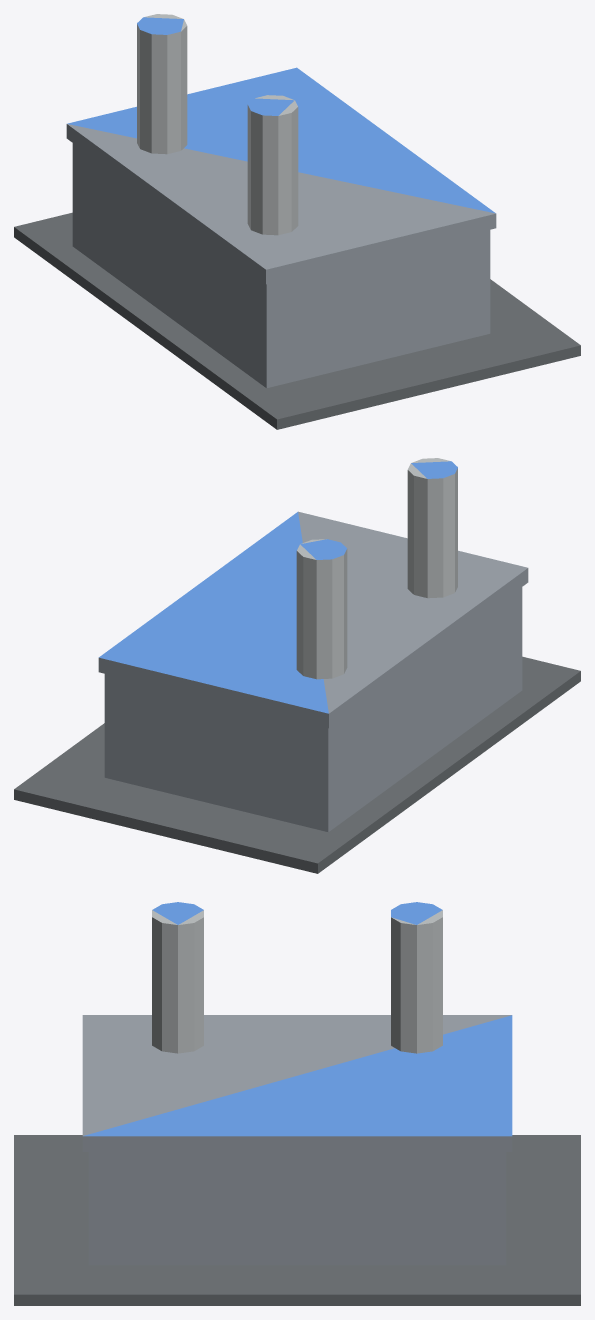
Rendered from veyran_power_plant.glb.
3 renders of one model, top to bottom at view 1: azimuth 30°, elevation 25°; view 2: azimuth 150°, elevation 25°; view 3: azimuth 270°, elevation 25°, orthographic. The views are drawn at different scales.
Visible parts, largest first — view 1: hull; view 2: hull; view 3: hull.
Boxes of the visible parts, left/top/right/bottom form: hull: left=14, top=14, right=580, bottom=429; hull: left=14, top=458, right=580, bottom=873; hull: left=14, top=902, right=580, bottom=1305.
Size of the model in its own units: 7.6 by 6 by 11.4.
